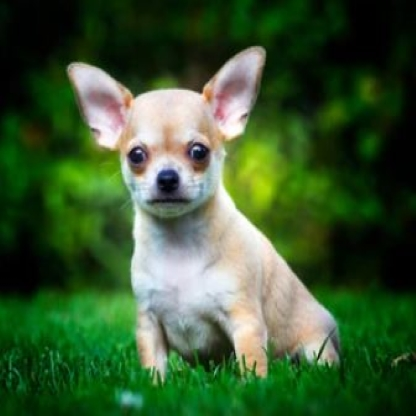chihuahua: (64, 44, 342, 375)
